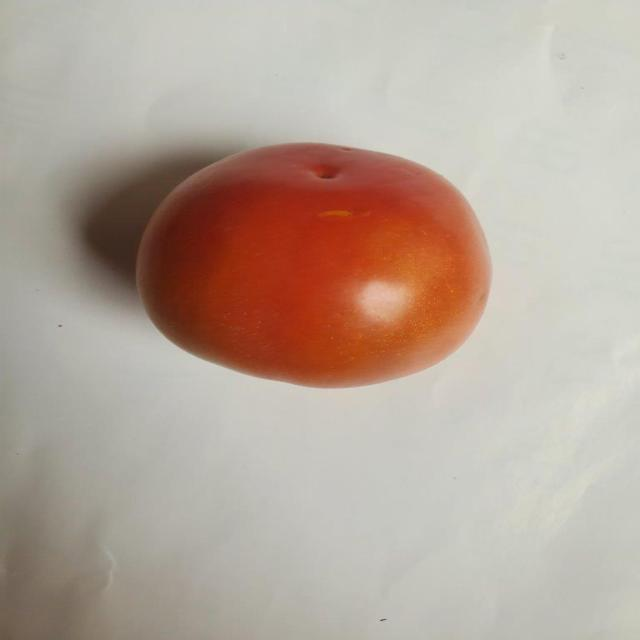Tomato: (136, 140, 492, 392)
